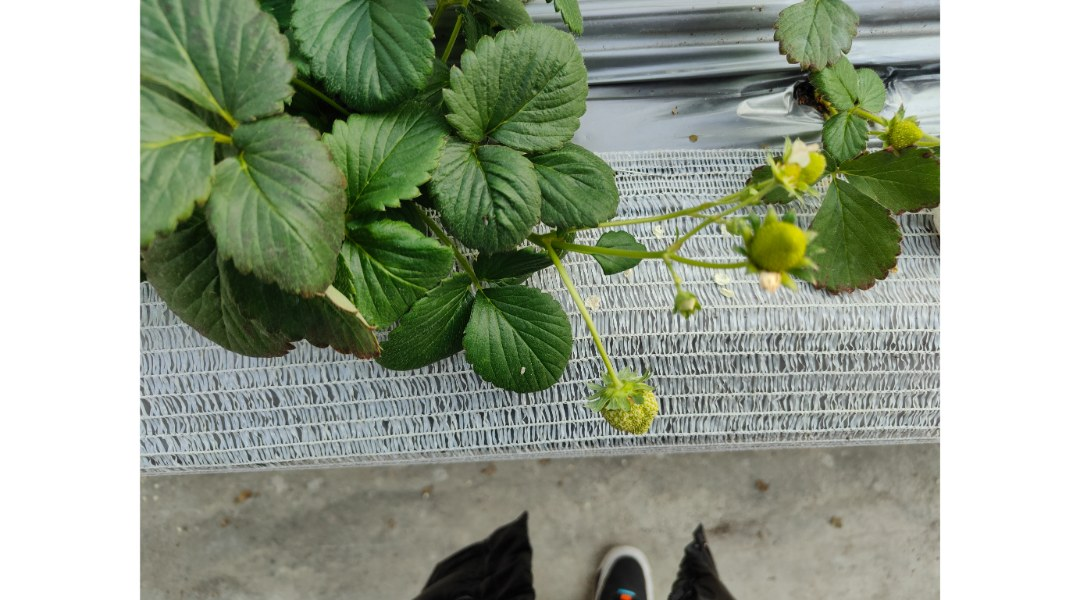berry: (731, 214, 829, 293), (586, 364, 663, 439), (759, 137, 831, 204), (652, 285, 716, 318)
strain: (549, 255, 624, 383), (558, 186, 744, 227), (683, 253, 747, 274)
